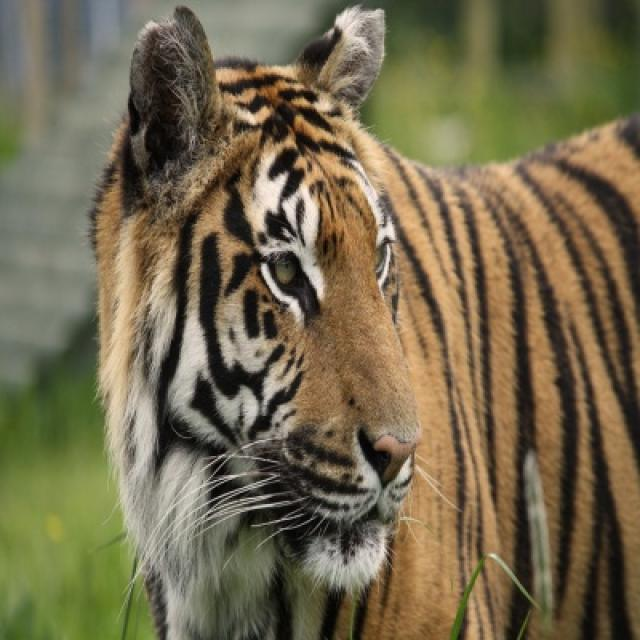Tiger: (94, 0, 638, 638)
